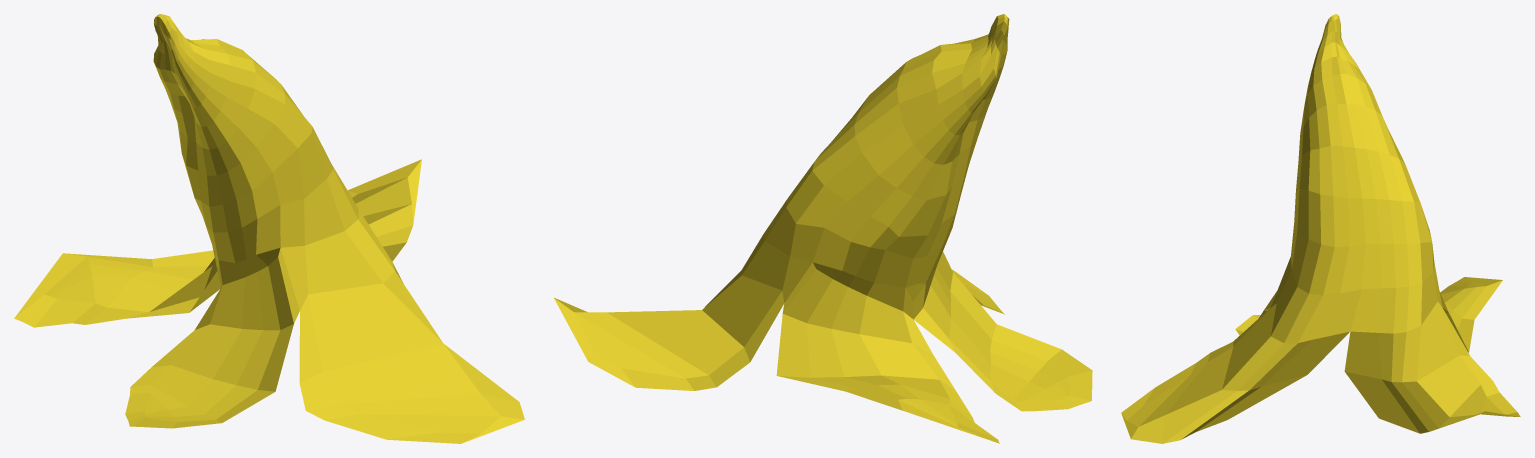
File: CAMBURCITO.fbx
The picture shows the model from 3 angles, left to right: view 1: azimuth 30°, elevation 25°; view 2: azimuth 150°, elevation 25°; view 3: azimuth 270°, elevation 25°; orthographic projection. The views are drawn at different scales.
Parts seen in each view (by area): view 1: Plano; view 2: Plano; view 3: Plano.
Boxes of the visible parts, <box> form: Plano: <box>14,14,524,443</box>; Plano: <box>554,14,1092,443</box>; Plano: <box>1121,14,1520,443</box>.
Size of the model in its own units: 320 by 278 by 309.
